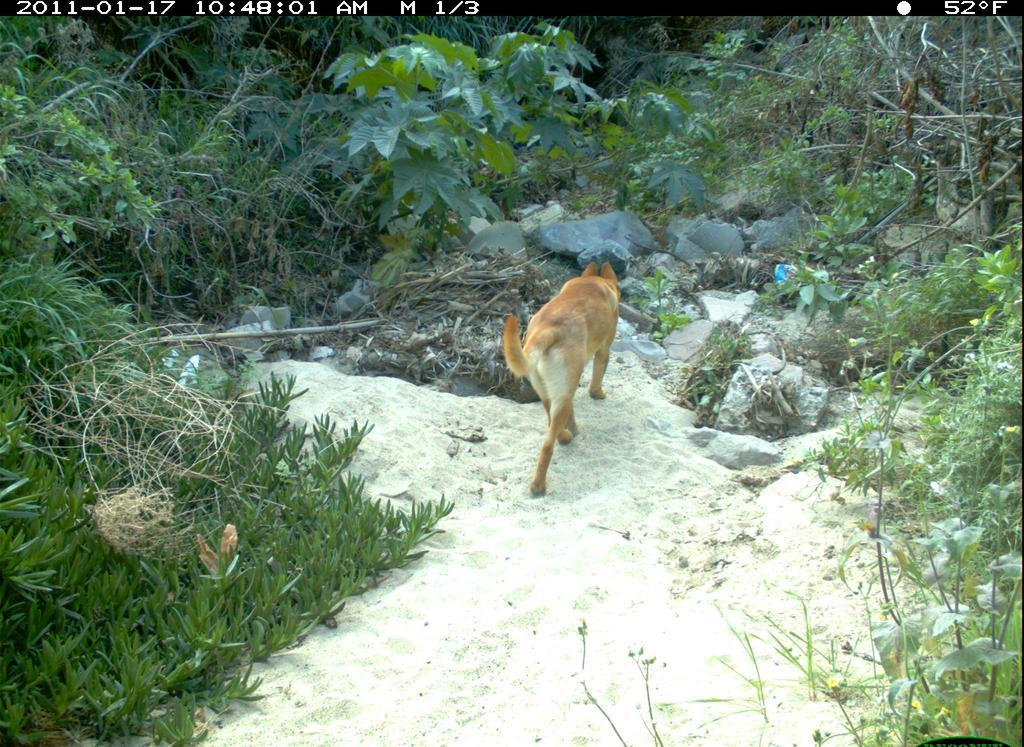dog: (481, 232, 634, 513)
